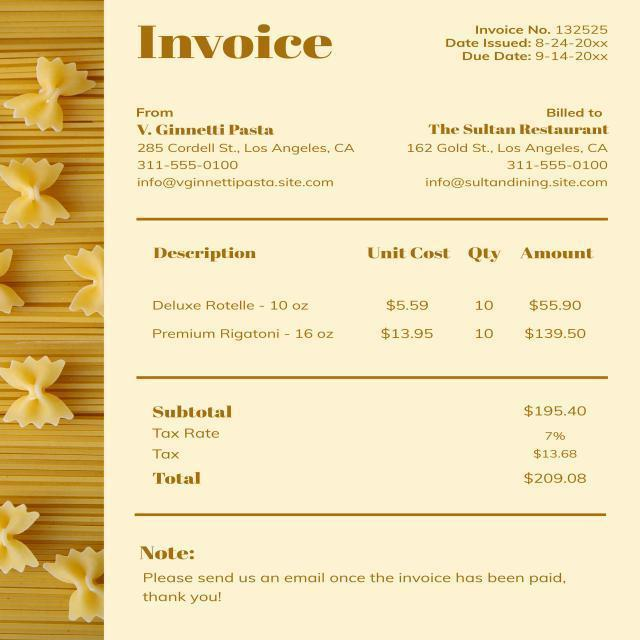ROI: (133, 215, 605, 375), (152, 397, 595, 492), (137, 542, 572, 613), (129, 105, 362, 191), (399, 106, 618, 192), (437, 19, 619, 71), (129, 25, 342, 65)
